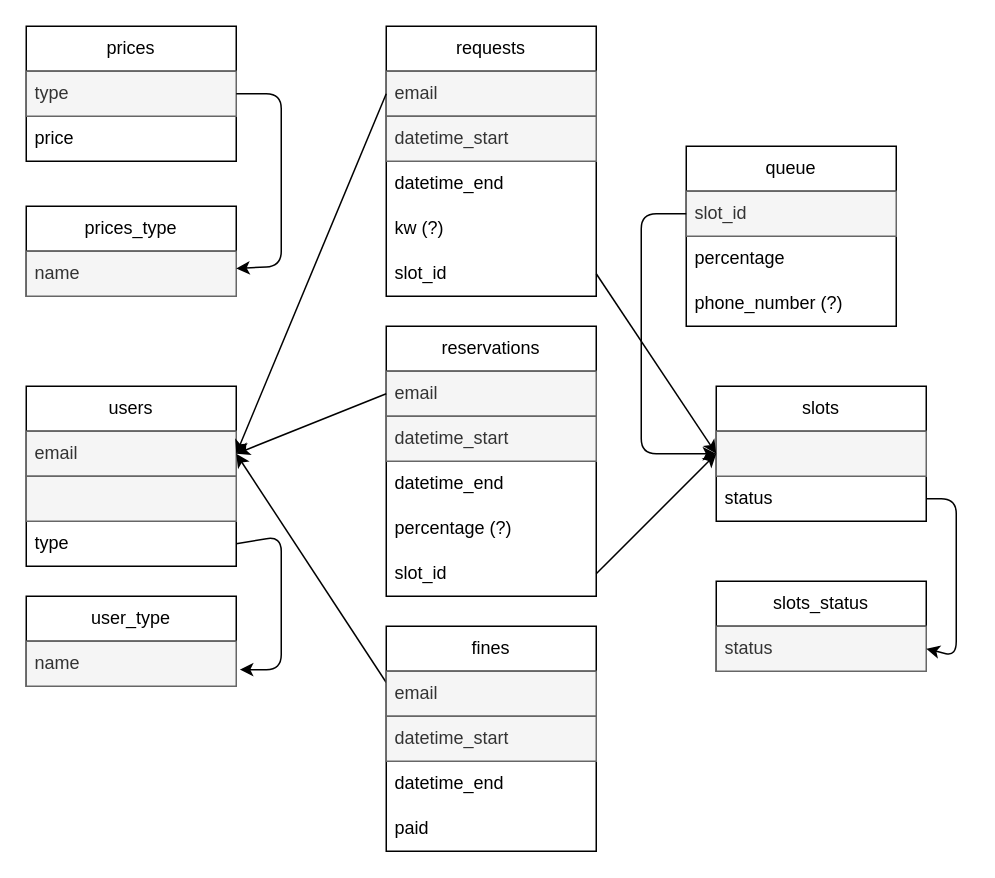
Image size: 995x878. Some labels were removed from this diagram. The centre of each missing label's shape, as x and y in pixels:
"id" belongs at pixel 820 453.
"password" belongs at pixel 130 498.
